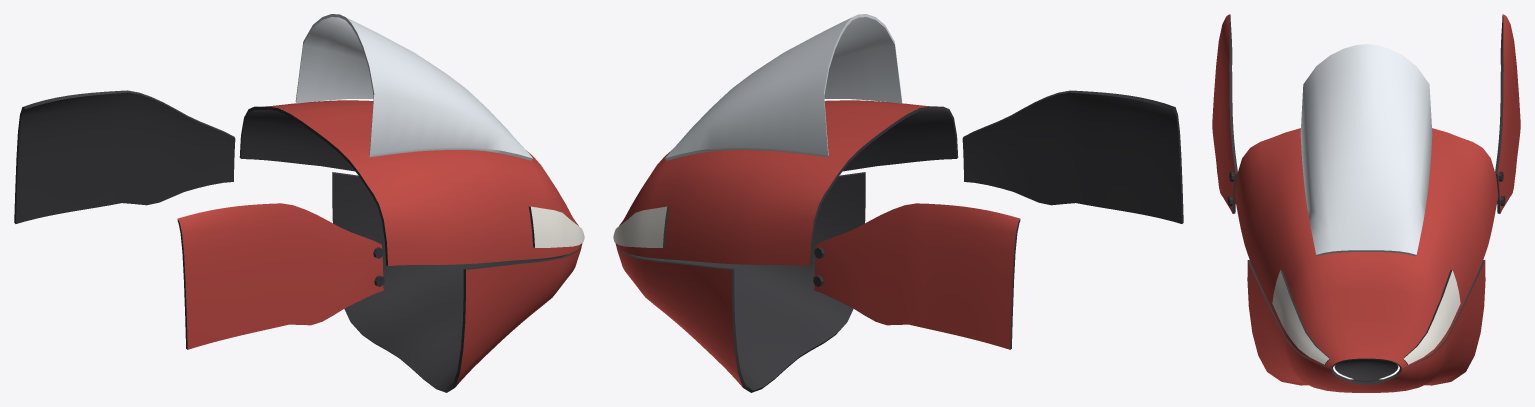
File: half.glb
3 views of the same model, side by side, from view 1: azimuth 30°, elevation 25°; view 2: azimuth 150°, elevation 25°; view 3: azimuth 270°, elevation 25° (orthographic). The views are drawn at different scales.
Visible parts, largest first — view 1: half; view 2: half; view 3: half.
Boxes of the visible parts, x1=… form: half: x1=14, y1=14, x2=584, y2=392; half: x1=613, y1=14, x2=1183, y2=392; half: x1=1212, y1=14, x2=1520, y2=392.
Size of the model in its own units: 0.652 by 0.4819 by 0.4235.
